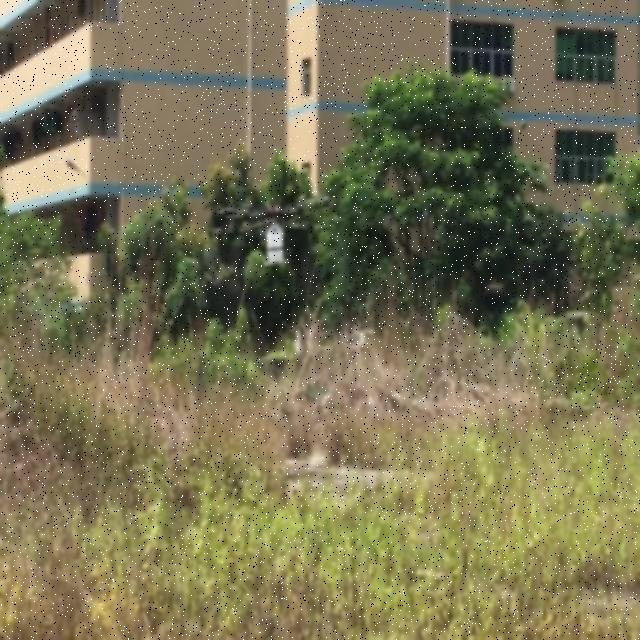UAV: (209, 196, 338, 266)
